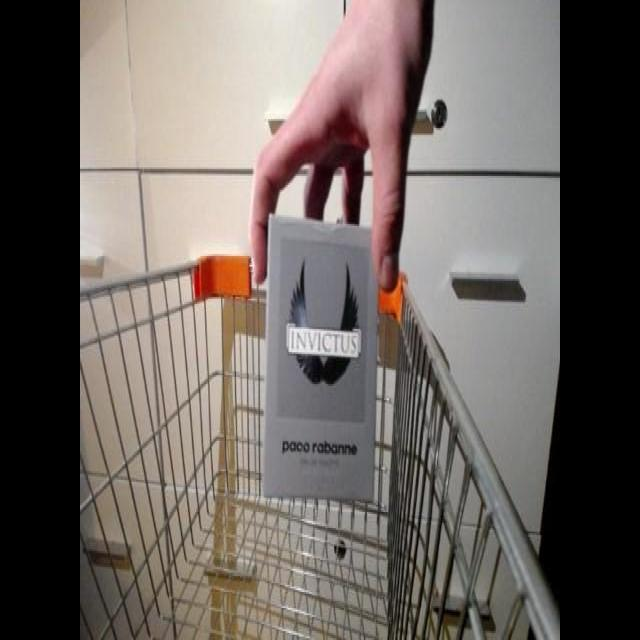Paco Rabanne: (260, 212, 384, 502)
